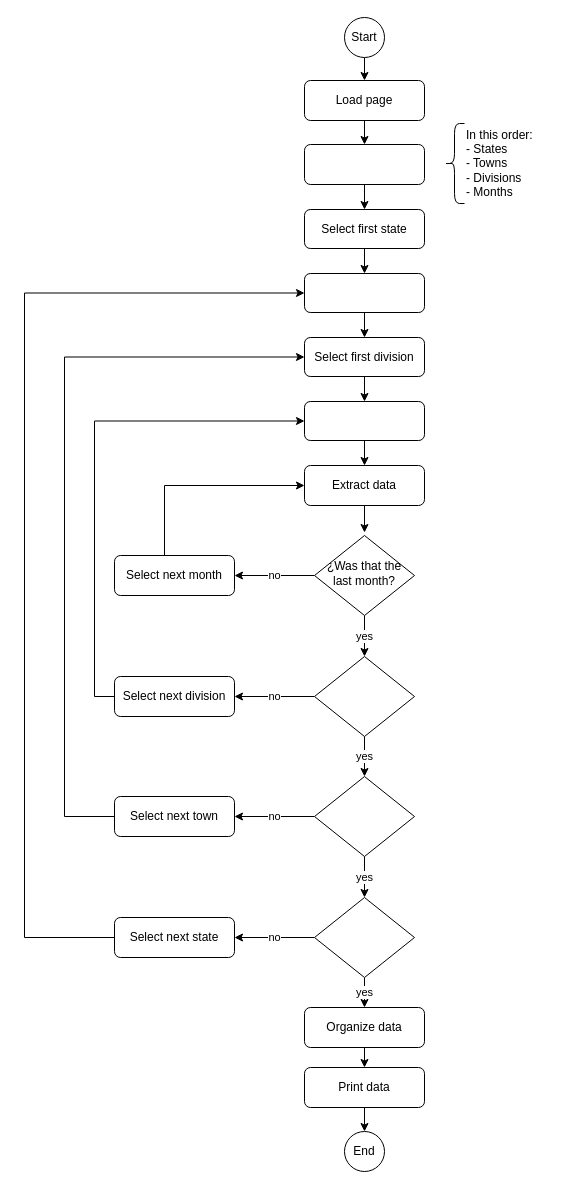
The diagram is 572 pixels wide and 1189 high, and some of its shapes have lost their labels. The box of each missing label's shape, as (x1, y1, x2, y2) in pixels:
Load data from selects: (304, 144, 424, 184)
Select first month: (304, 400, 424, 440)
Select first town: (304, 272, 424, 312)
¿Was that the last division?: (314, 656, 414, 736)
¿Was that the last state?: (314, 896, 414, 978)
¿Was that the last town?: (314, 776, 414, 856)
